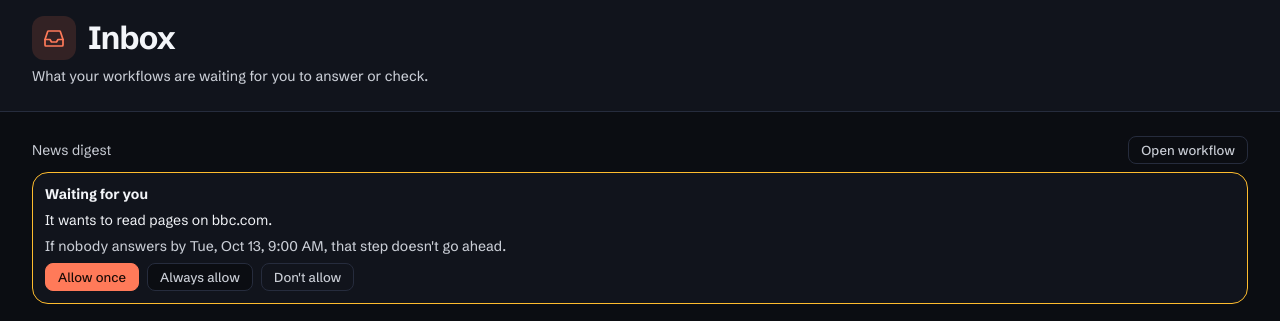
Test: InboxPage › answers a permission request
Click the button "Allow once" at (92, 277), box [45,263,139,291]
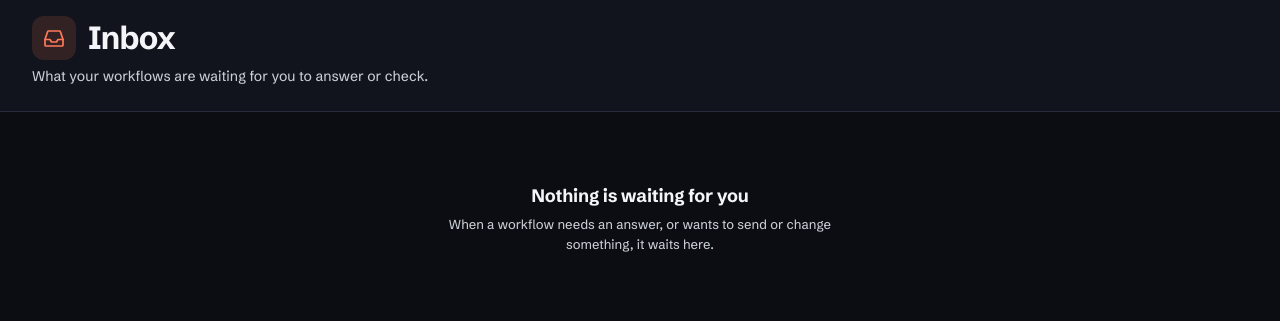
Check: the text "Nothing is waiting for you" is shown, box [531,184,749,207]
